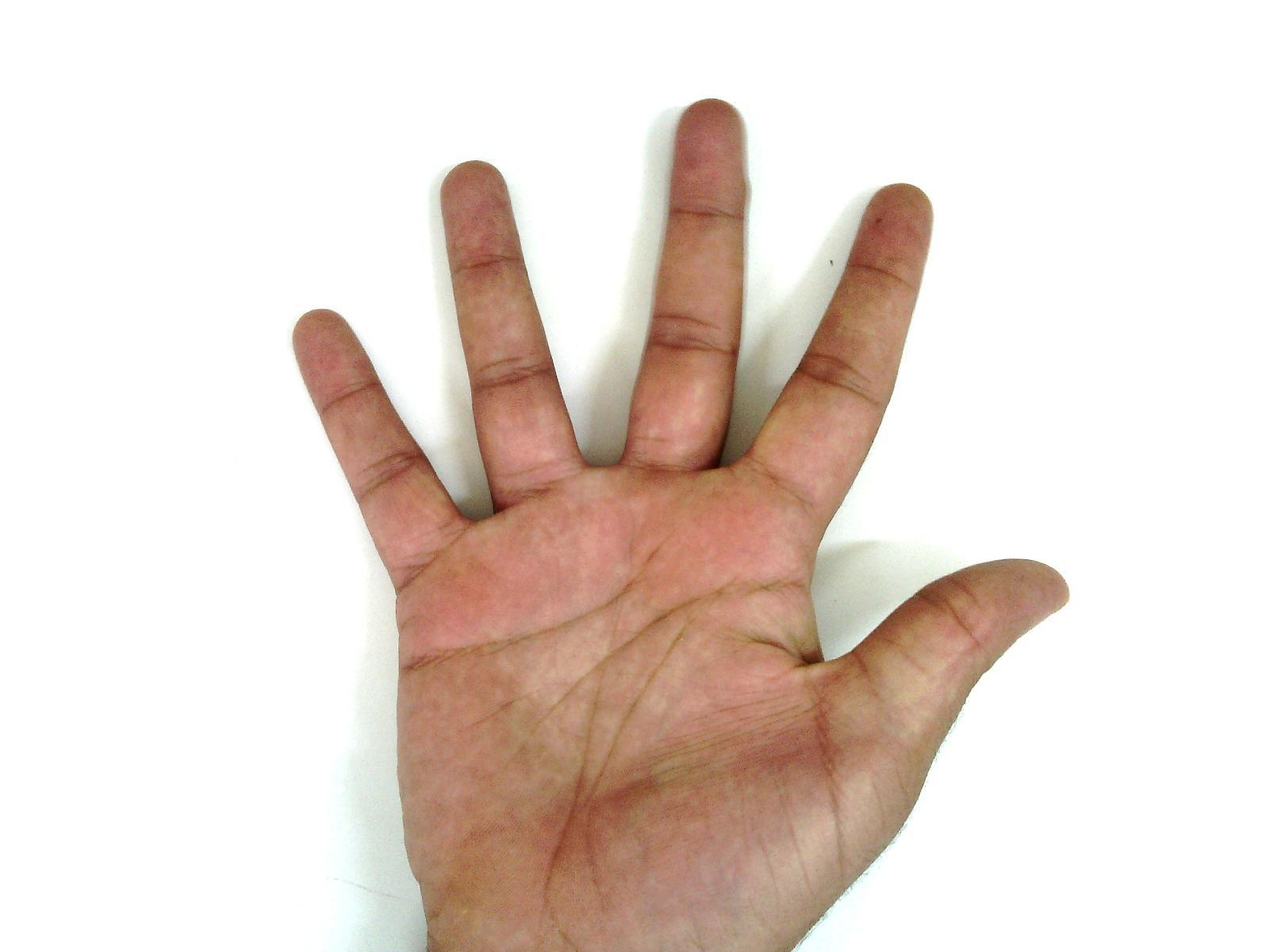open_palm: (288, 97, 1072, 951)
